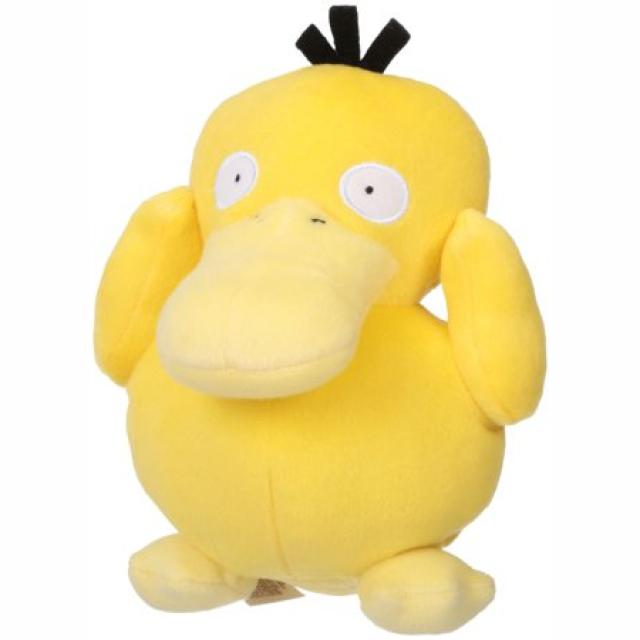Psyduck: (117, 36, 540, 630)
